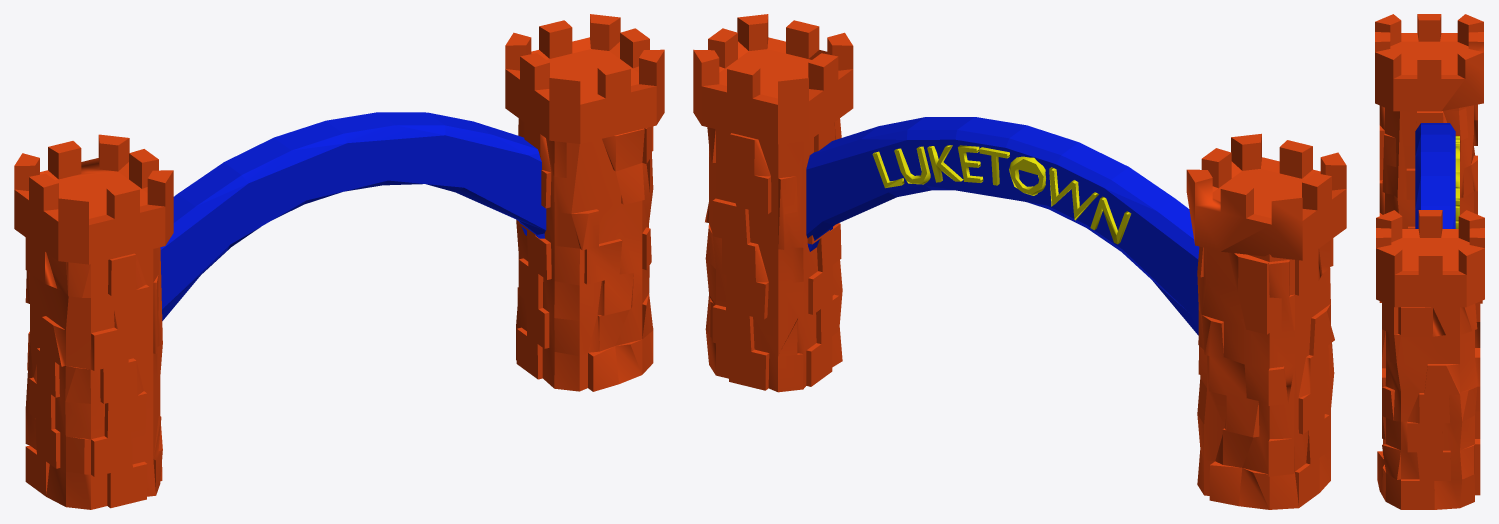
Rendered from luketown_LOD2.fbx.
3 views of the same model, side by side, from view 1: azimuth 30°, elevation 25°; view 2: azimuth 150°, elevation 25°; view 3: azimuth 270°, elevation 25° (orthographic). The views are drawn at different scales.
Visible parts, largest first — view 1: Cube.008, Cube.007, Circle.034; view 2: Cube.008, Cube.007, Circle.034, Testo; view 3: Cube.007, Cube.008, Circle.034, Testo.
Boxes of the visible parts, left/top/right/bottom form: Cube.008: left=14, top=134, right=173, bottom=509; Cube.007: left=505, top=14, right=664, bottom=391; Circle.034: left=160, top=112, right=546, bottom=320; Cube.008: left=1186, top=133, right=1346, bottom=509; Cube.007: left=693, top=14, right=853, bottom=392; Circle.034: left=806, top=117, right=1199, bottom=335; Testo: left=872, top=145, right=1131, bottom=244; Cube.007: left=1376, top=210, right=1484, bottom=509; Cube.008: left=1375, top=14, right=1483, bottom=303; Circle.034: left=1415, top=123, right=1455, bottom=228; Testo: left=1455, top=136, right=1459, bottom=228.
Bounding box in the file's own units: 1287 × 637 × 247.
